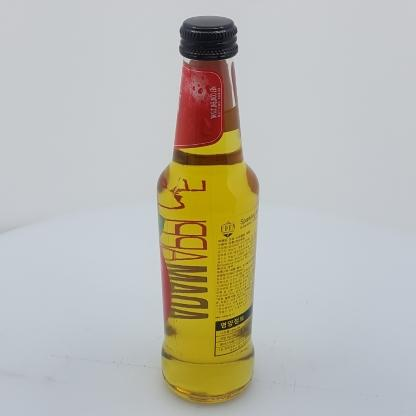----------------: (156, 27, 260, 416)
